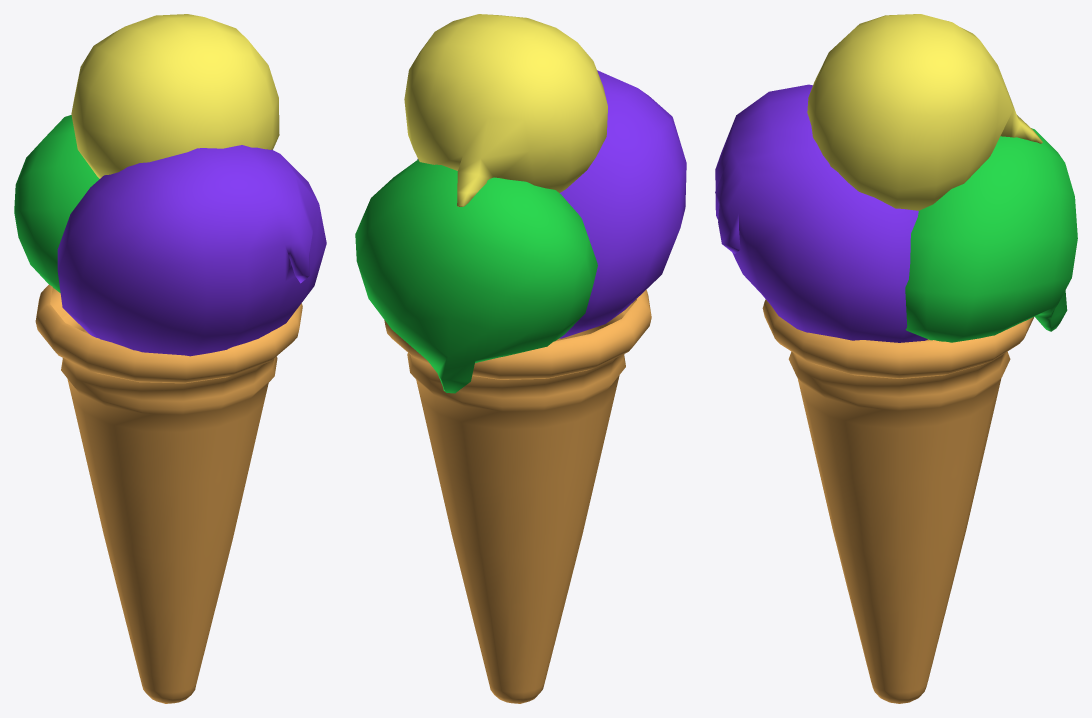
The model's file is ice-cream.fbx.
3 renders of one model, left to right at view 1: azimuth 30°, elevation 25°; view 2: azimuth 150°, elevation 25°; view 3: azimuth 270°, elevation 25°, orthographic.
Parts seen in each view (by area): view 1: IceCream; view 2: IceCream; view 3: IceCream.
Part boxes in pixels (x1,y1,x2,y2): IceCream: (14, 14, 326, 703); IceCream: (355, 14, 686, 703); IceCream: (715, 14, 1077, 703).
Size of the model in its own units: 9.64 by 24.64 by 11.9.
